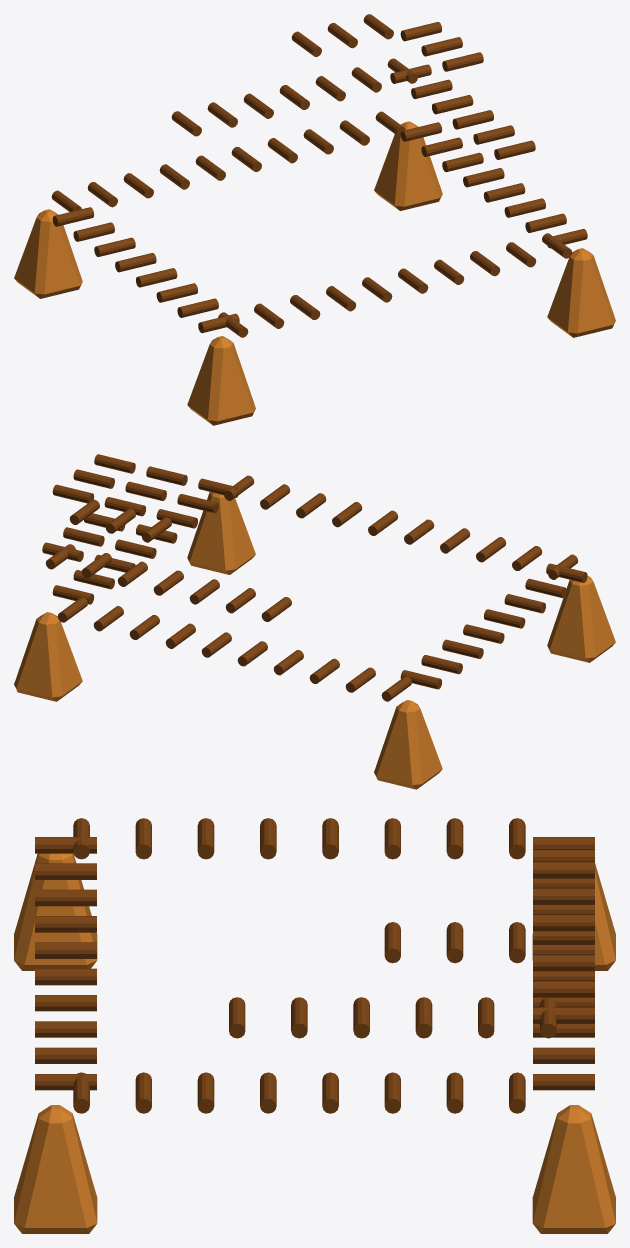
Rendered from openscad_miniature-brick-lumber-house_L5_Q1__gemini31pro.glb.
3 renders of one model, top to bottom at view 1: azimuth 30°, elevation 25°; view 2: azimuth 150°, elevation 25°; view 3: azimuth 270°, elevation 25°, orthographic. The views are drawn at different scales.
Parts seen in each view (by area): view 1: object; view 2: object; view 3: object.
Boxes of the visible parts, <box> form: object: <box>14,14,615,425</box>; object: <box>14,454,615,789</box>; object: <box>14,818,615,1233</box>.
Size of the model in its own units: 680 by 298 by 580.
